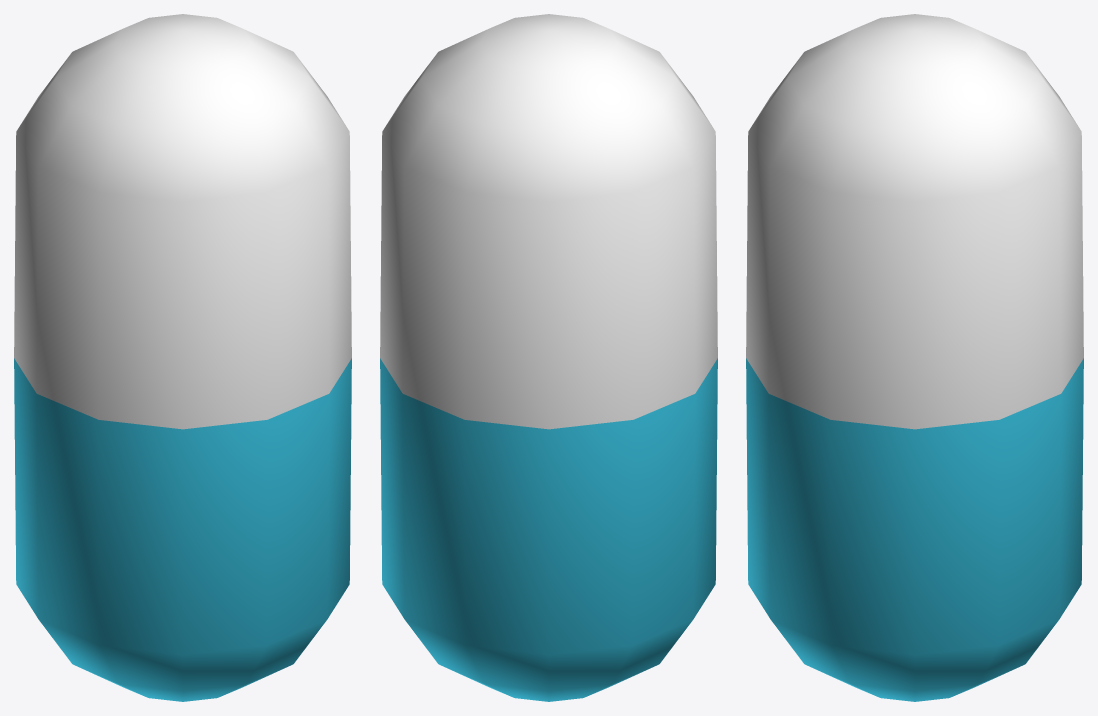
Rendered from jouzai2.fbx.
The picture shows the model from 3 angles, left to right: view 1: azimuth 30°, elevation 25°; view 2: azimuth 150°, elevation 25°; view 3: azimuth 270°, elevation 25°; orthographic projection.
Visible parts, largest first — view 1: jouzai2; view 2: jouzai2; view 3: jouzai2.
Boxes of the visible parts, x1,y1,x2,y2 form: jouzai2: (14, 14, 351, 701); jouzai2: (380, 14, 717, 701); jouzai2: (746, 14, 1083, 701).
Bounding box in the file's own units: 1.87 × 4 × 1.87.
